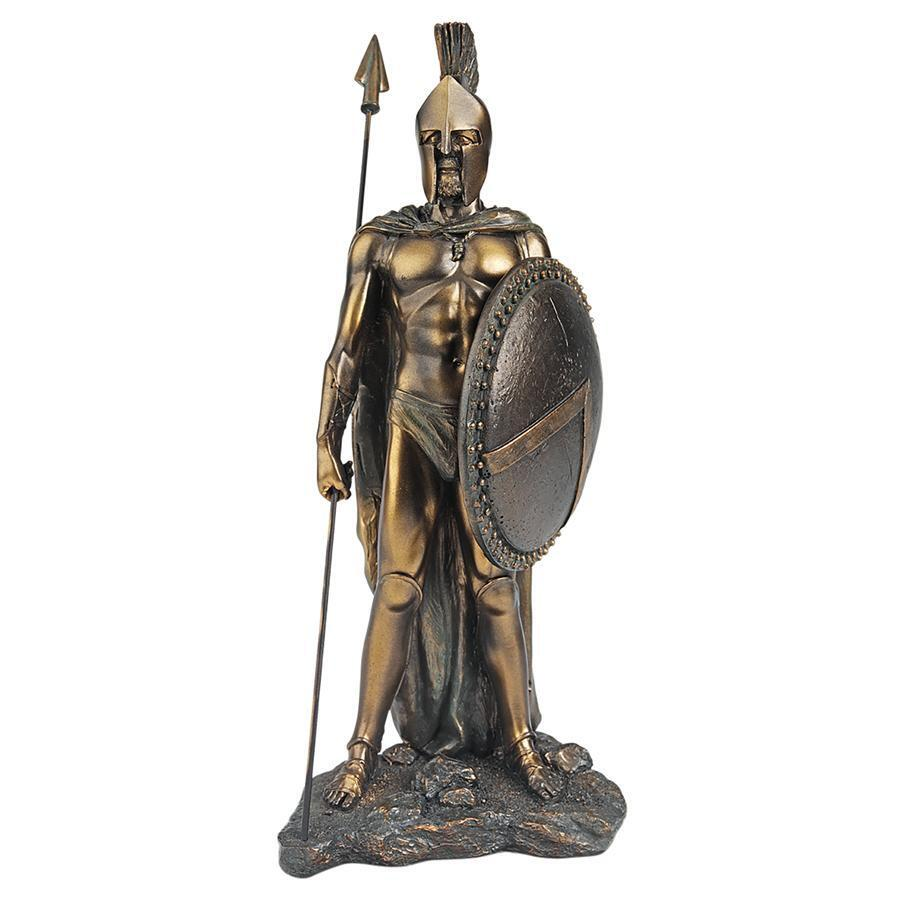person-like: (306, 17, 584, 809)
